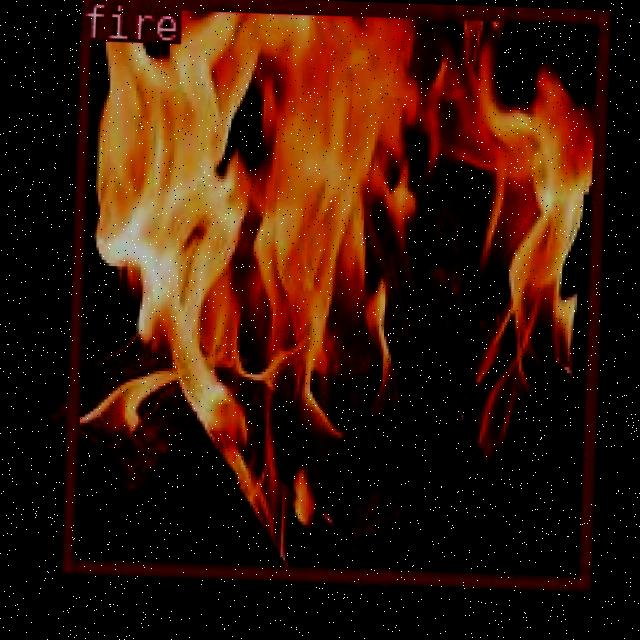fire: (59, 0, 607, 585)
